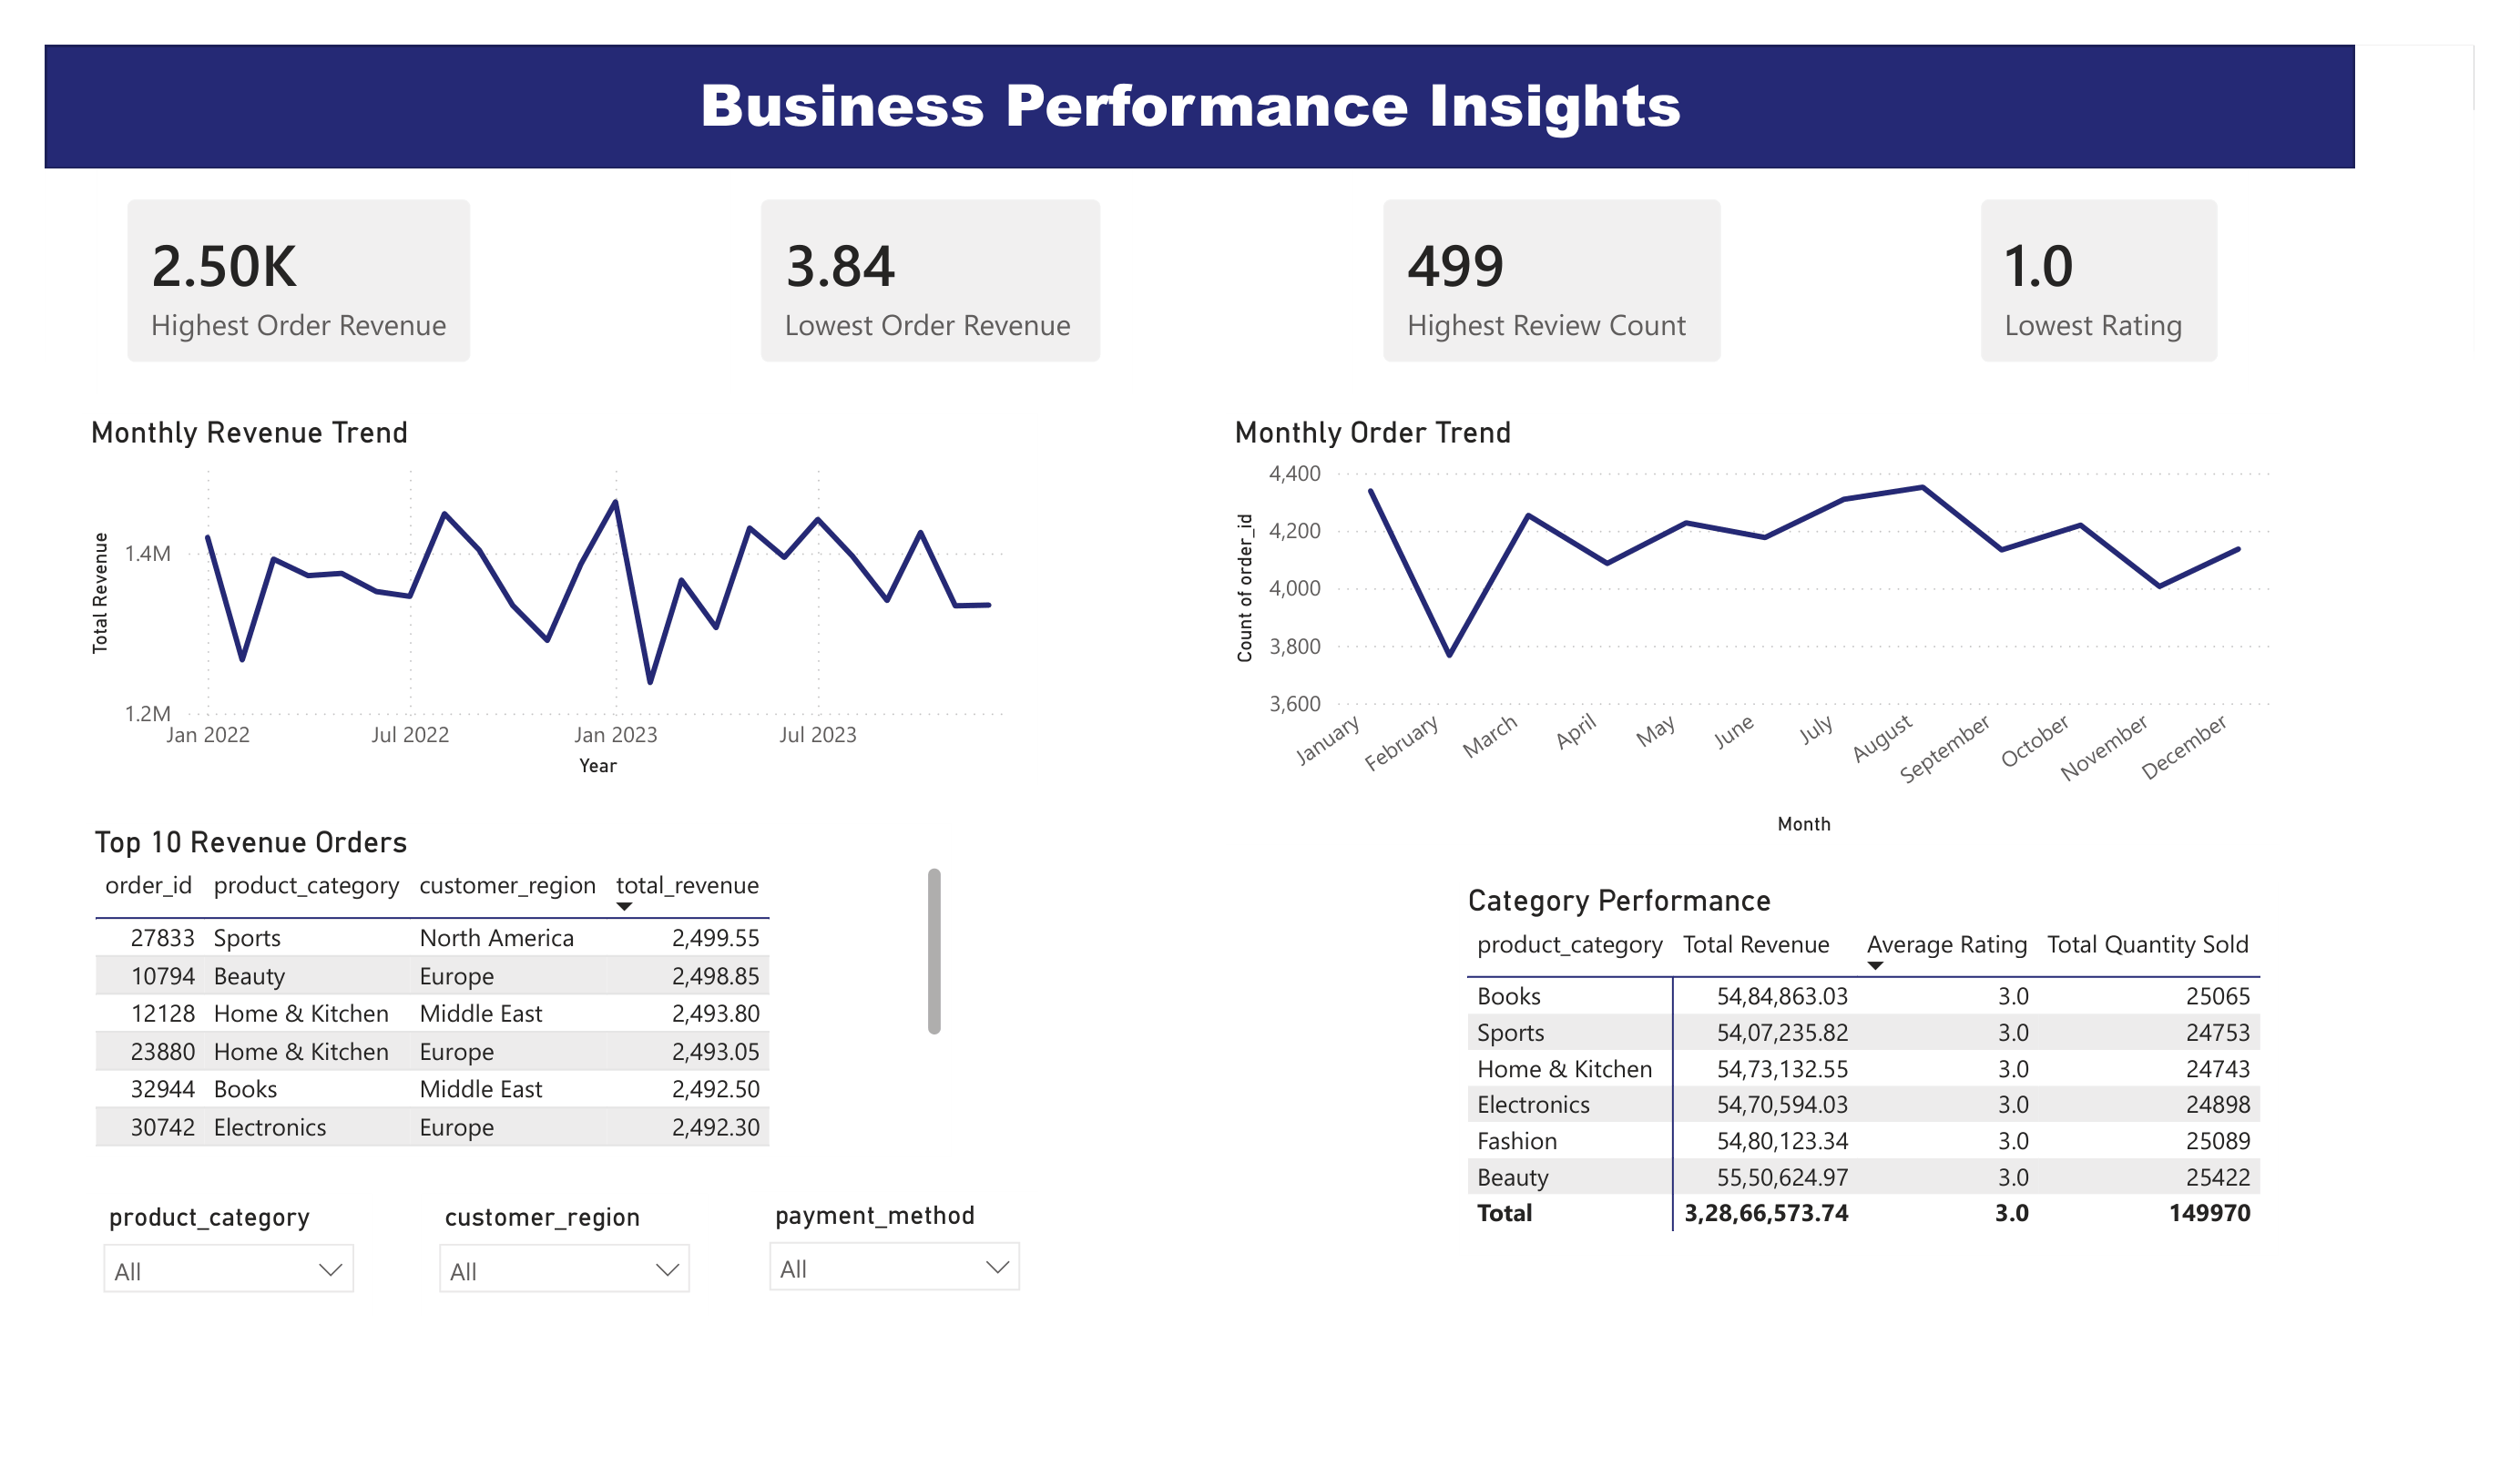

The page's visual inventory and layout, read from the dashboard file:
{"tool":"powerbi","page":{"name":"dashboard_page3","canvas":[1280,720],"ordinal":2},"visuals":[{"type":"shape","box":[0,0,1279.6,68.3],"z":0},{"type":"textbox","box":[357.5,4.2,565.7,62],"z":1000},{"type":"cardVisual","fields":{"Data":["sales.Highest Revenue"]},"box":[28.8,68.3,224.1,124.6],"z":2000},{"type":"cardVisual","fields":{"Data":["sales.Lowest Revenue"]},"box":[379.9,68.3,222.9,124.6],"z":3000},{"type":"cardVisual","fields":{"Data":["sales.Highest Review Count"]},"box":[723.9,68.3,221.7,124.6],"z":4000},{"type":"cardVisual","fields":{"Data":["sales.Lowest Rating"]},"box":[1055.9,68.3,165.4,124.6],"z":5000},{"type":"lineChart","title":"Monthly Revenue Trend","fields":{"Y":["sales.Total Revenue"],"Category":["sales.order_date.Variation.Date Hierarchy.Year","sales.order_date.Variation.Date Hierarchy.Month"]},"box":[20.4,203.7,529.7,206.1],"z":6000},{"type":"lineChart","title":"Monthly Order Trend","fields":{"Category":["sales.order_date.Variation.Date Hierarchy.Month"],"Y":["CountNonNull(sales.order_id)"]},"box":[654.4,203.7,583.7,238.5],"z":7000},{"type":"tableEx","title":"Top 10 Revenue Orders","fields":{"Values":["sales.order_id","sales.product_category","sales.customer_region","sales.total_revenue"]},"box":[21.6,431.4,480.4,184.7],"z":8000},{"type":"pivotTable","title":"Category Performance","fields":{"Values":["sales.Total Revenue","sales.Average Rating","sales.Total Quantity Sold"],"Rows":["sales.product_category"]},"box":[783.8,463.8,454.2,207.3],"z":9000},{"type":"slicer","fields":{"Values":["sales.product_category"]},"box":[21.6,636.3,158.7,67.8],"z":10000},{"type":"slicer","fields":{"Values":["sales.customer_region"]},"box":[208.5,636.4,159.4,68.3],"z":11000},{"type":"slicer","fields":{"Values":["sales.payment_method"]},"box":[390.7,635.2,159.4,68.3],"z":12000}]}

Visuals, with their boxes on the page's 1280x720 design canvas (x1, y1, x2, y2). These are canvas units, not pixel positions in the 2520x1457 screenshot, which may show the page scaled, cropped or inside an application window:
shape: box=[0, 0, 1280, 68]
textbox: box=[358, 4, 923, 66]
cardVisual - sales.Highest Revenue: box=[29, 68, 253, 193]
cardVisual - sales.Lowest Revenue: box=[380, 68, 603, 193]
cardVisual - sales.Highest Review Count: box=[724, 68, 946, 193]
cardVisual - sales.Lowest Rating: box=[1056, 68, 1221, 193]
"Monthly Revenue Trend" lineChart: box=[20, 204, 550, 410]
"Monthly Order Trend" lineChart: box=[654, 204, 1238, 442]
"Top 10 Revenue Orders" tableEx: box=[22, 431, 502, 616]
"Category Performance" pivotTable: box=[784, 464, 1238, 671]
slicer - sales.product_category: box=[22, 636, 180, 704]
slicer - sales.customer_region: box=[208, 636, 368, 705]
slicer - sales.payment_method: box=[391, 635, 550, 704]
